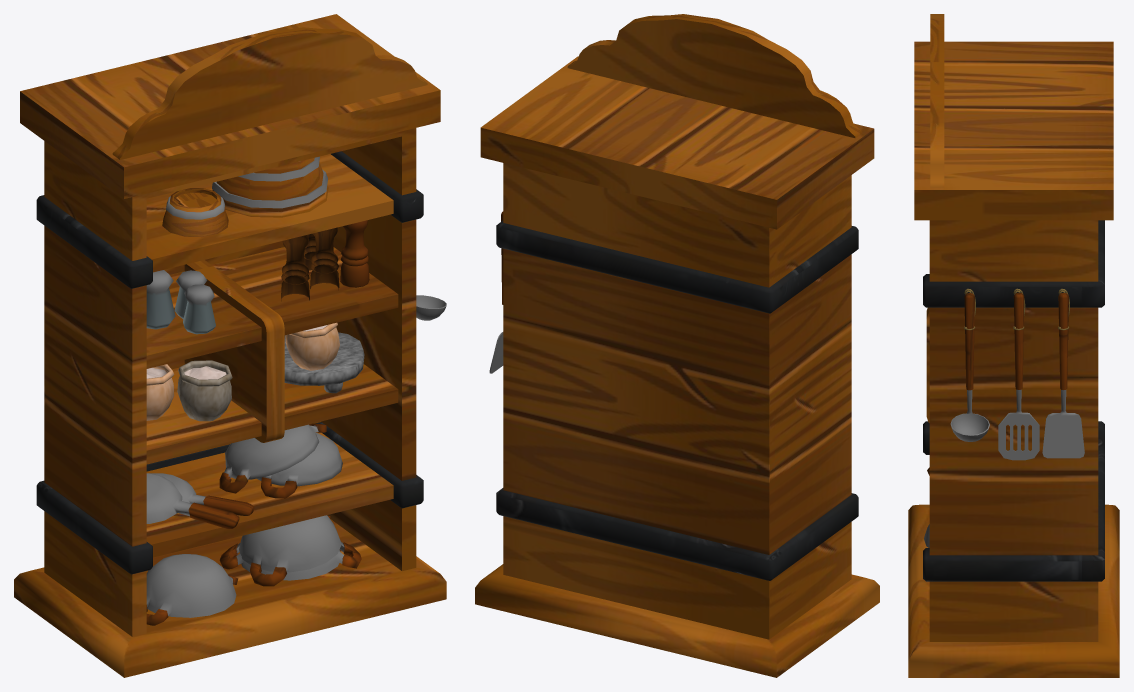
Rendered from Lemari Peralatan Dapur 1.fbx.
The picture shows the model from 3 angles, left to right: view 1: azimuth 30°, elevation 25°; view 2: azimuth 150°, elevation 25°; view 3: azimuth 270°, elevation 25°; orthographic projection. The views are drawn at different scales.
Parts seen in each view (by area): view 1: Lemari 1.001; view 2: Lemari 1.001; view 3: Lemari 1.001.
Boxes of the visible parts, x1,y1,x2,y2 form: Lemari 1.001: (14,14,446,677); Lemari 1.001: (475,14,879,677); Lemari 1.001: (908,14,1119,677).
Bounding box in the file's own units: 259 × 417 × 141.
1 material, 1 textured.
